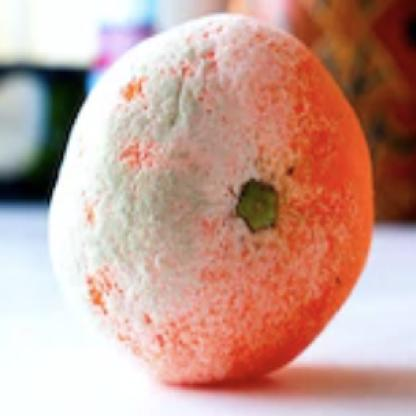rotten: (49, 18, 375, 383)
